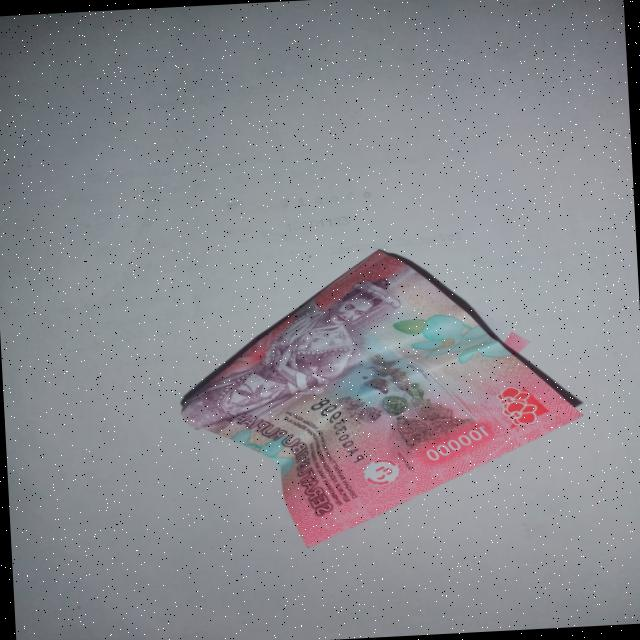100K: (165, 229, 590, 563)
